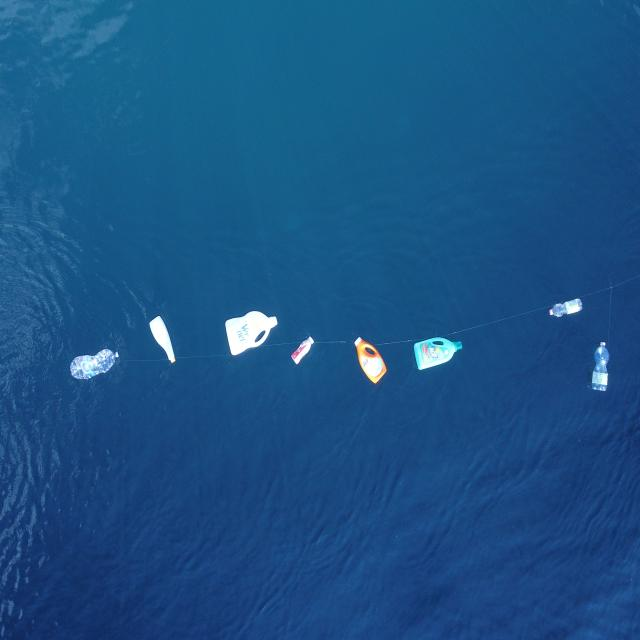bottles: (219, 307, 284, 365), (66, 335, 120, 395), (410, 333, 469, 380), (351, 333, 396, 390), (148, 312, 185, 378), (549, 294, 588, 333), (592, 337, 614, 399), (287, 331, 319, 373)
